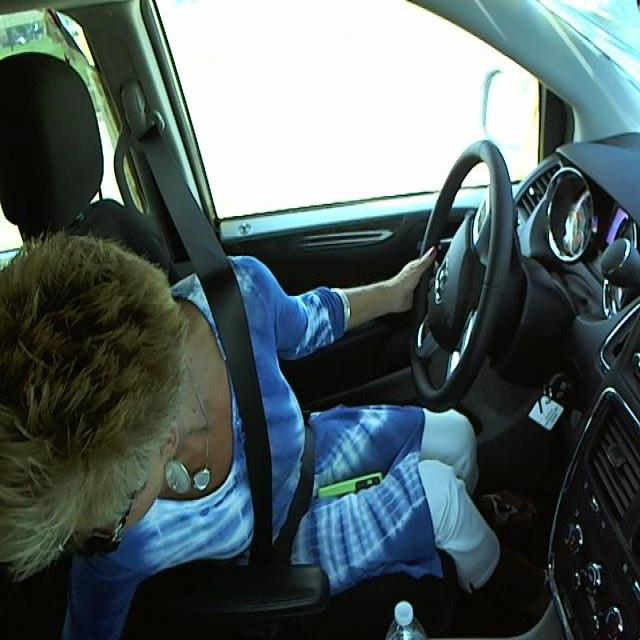seatbelt: (191, 301, 333, 571)
